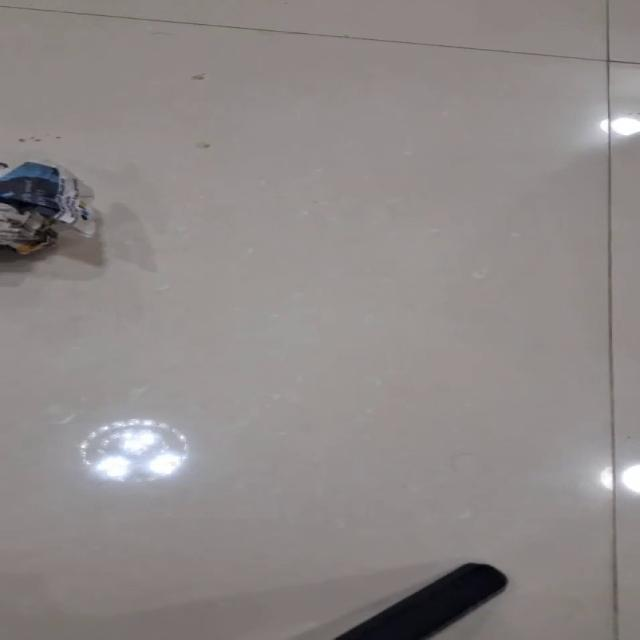paper: (0, 159, 96, 254)
